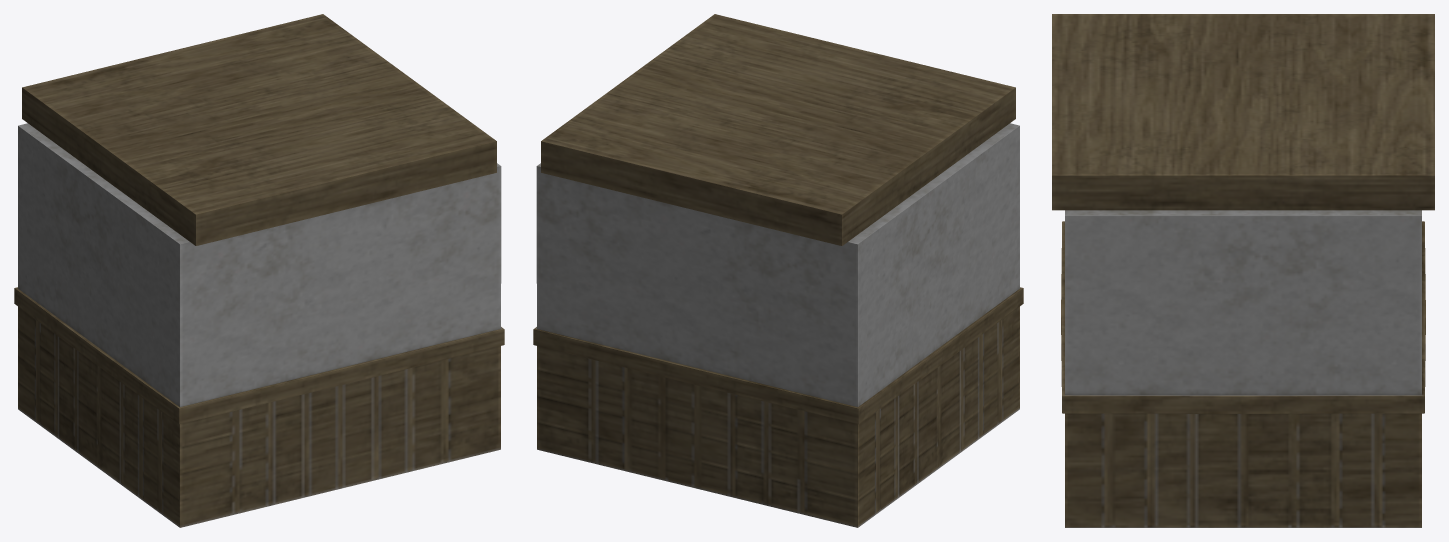
File: sb_obj_outdoor028_house02_wall02.fbx
3 renders of one model, left to right at view 1: azimuth 30°, elevation 25°; view 2: azimuth 150°, elevation 25°; view 3: azimuth 270°, elevation 25°, orthographic. The views are drawn at different scales.
Parts seen in each view (by area): view 1: sb_obj_outdoor028_house02_wall02; view 2: sb_obj_outdoor028_house02_wall02; view 3: sb_obj_outdoor028_house02_wall02.
Boxes of the visible parts, left/top/right/bottom form: sb_obj_outdoor028_house02_wall02: left=14, top=14, right=504, bottom=527; sb_obj_outdoor028_house02_wall02: left=533, top=14, right=1023, bottom=527; sb_obj_outdoor028_house02_wall02: left=1052, top=14, right=1434, bottom=527.
Size of the model in its own units: 3.26 by 3 by 3.
